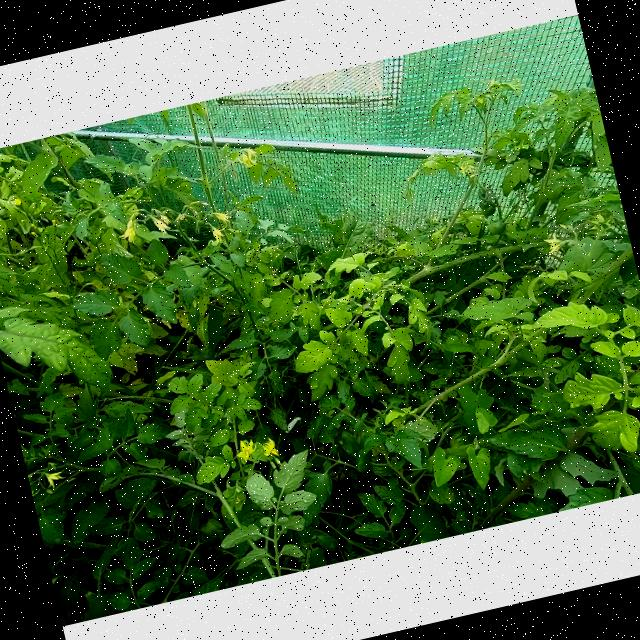Flowers: (113, 210, 142, 246), (230, 218, 260, 252), (232, 436, 258, 462), (542, 230, 566, 256), (42, 466, 67, 490), (258, 436, 280, 460), (456, 160, 478, 180)
